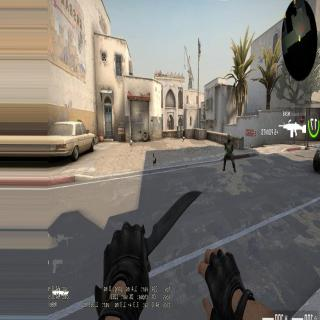CT-Body: (222, 133, 236, 172)
CT-Head: (226, 134, 232, 142)
